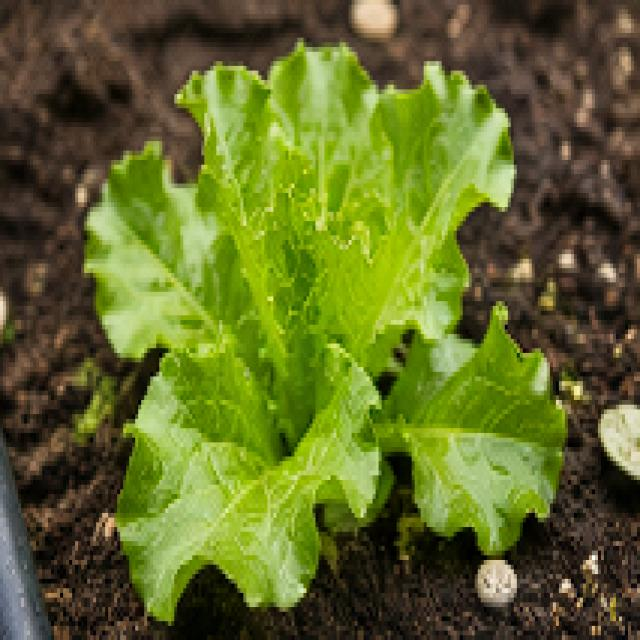inmadura: (87, 42, 562, 621)
